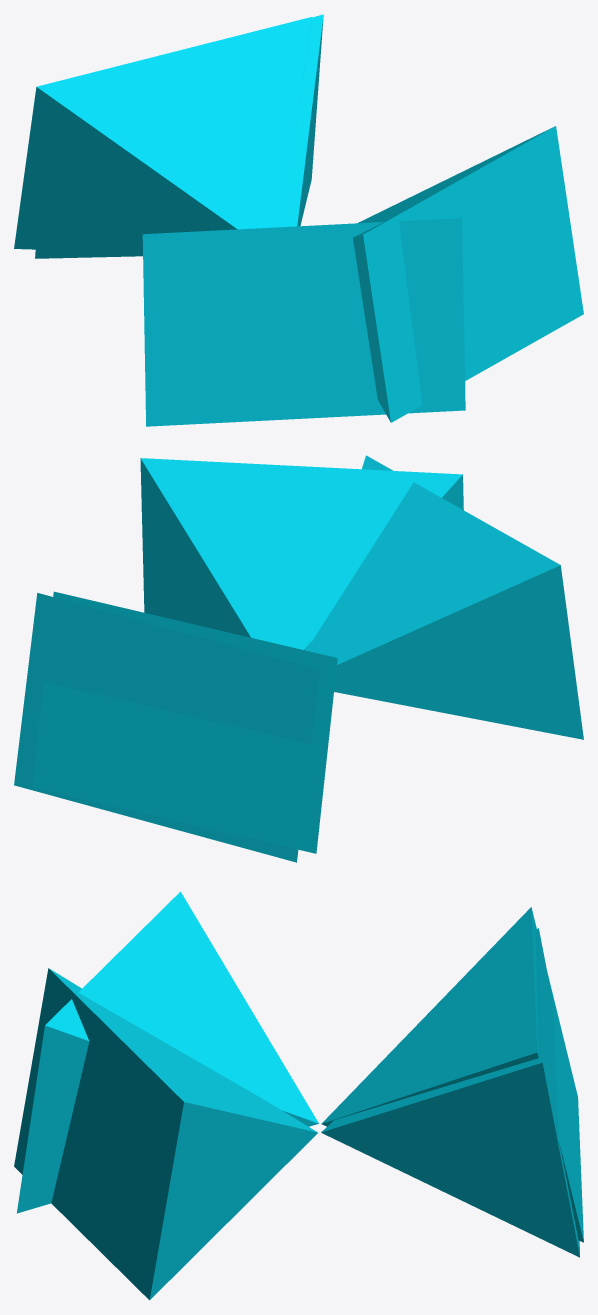
3 views of the same model, one above another, from view 1: azimuth 30°, elevation 25°; view 2: azimuth 150°, elevation 25°; view 3: azimuth 270°, elevation 25° (orthographic). The views are drawn at different scales.
Parts seen in each view (by area): view 1: field of view Camera3, field of view Camera4, field of view FrontLeft, field of view Camera6; view 2: field of view Camera3, field of view FrontLeft, field of view Camera4, field of view Camera6; view 3: field of view FrontLeft, field of view Camera3, field of view Camera6, field of view Camera4.
Part boxes in pixels (box(x1,y1,x2,y2)): field of view Camera3: box(142, 218, 465, 426); field of view Camera4: box(14, 17, 312, 252); field of view FrontLeft: box(353, 126, 583, 422); field of view Camera6: box(35, 14, 323, 258); field of view Camera3: box(305, 455, 583, 739); field of view FrontLeft: box(140, 458, 463, 650); field of view Camera4: box(32, 591, 337, 853); field of view Camera6: box(14, 593, 319, 862); field of view FrontLeft: box(14, 968, 317, 1300); field of view Camera3: box(16, 891, 318, 1213); field of view Camera6: box(321, 928, 579, 1257); field of view Camera4: box(321, 907, 583, 1242).
Bounding box in the file's own units: 15.61 × 6.63 × 16.47.
